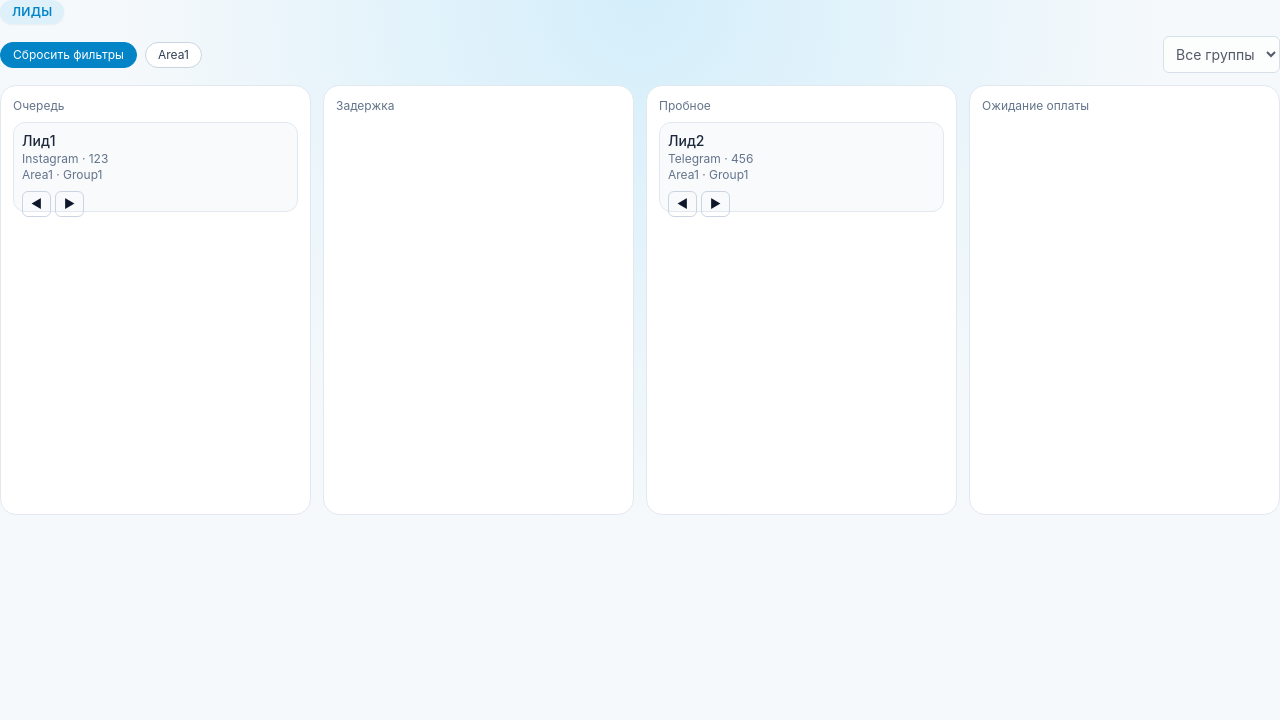
Scenario: delete: removes lead from list
Click the button "Лид2 Telegram · 456 Area1 · Group1 ◀ ▶": [686, 140] box [659,122,944,212]
(page scrolled)
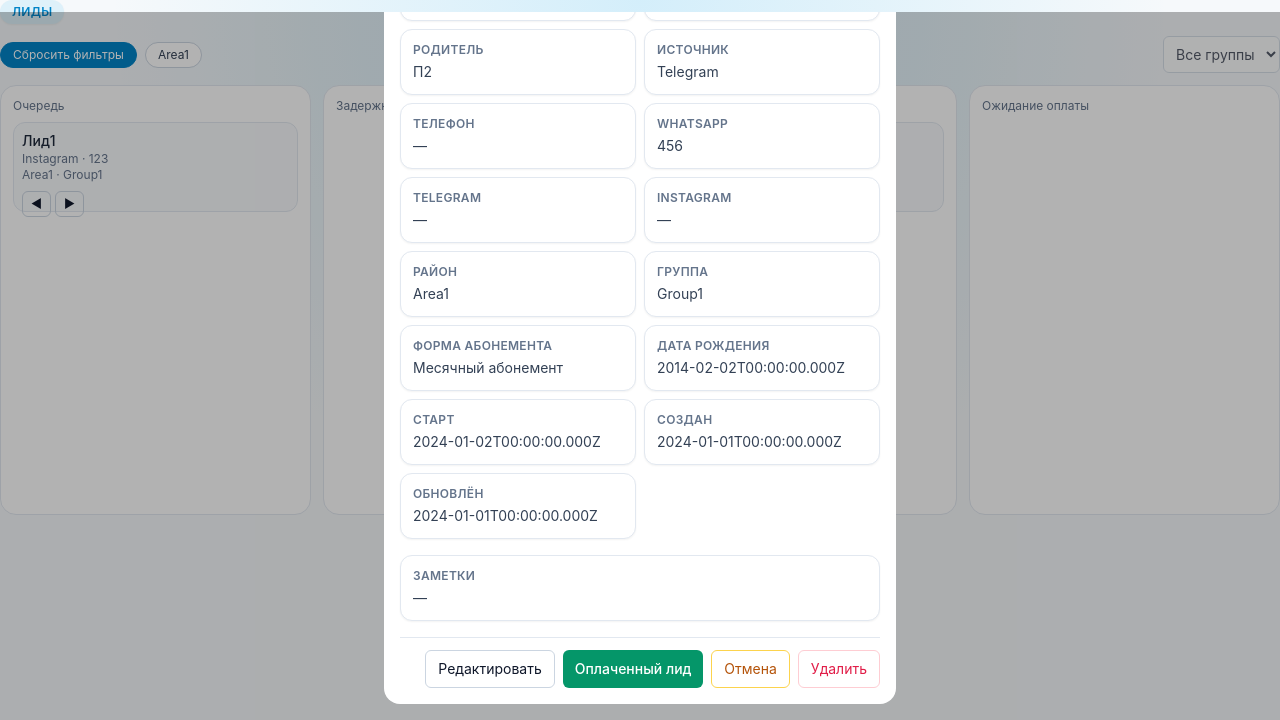
Click the button "Удалить": [839, 669] box [798,650,880,688]
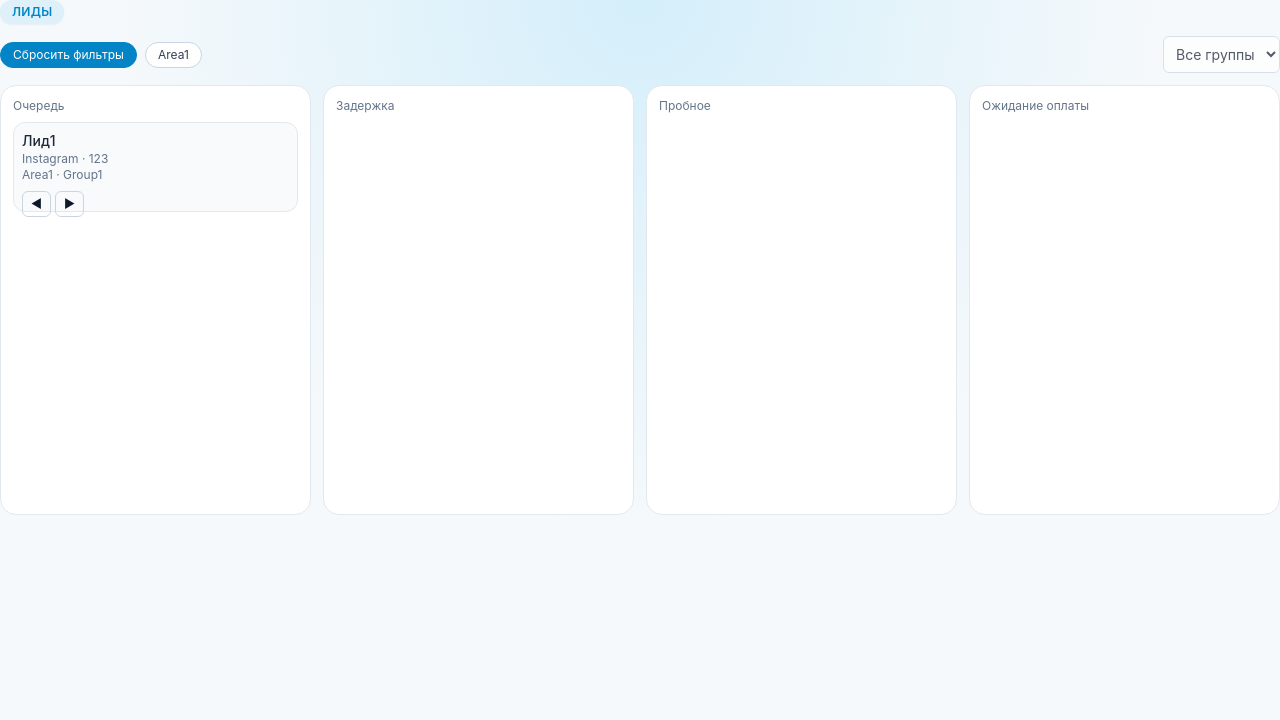
expect the button "Лид2" is gone: met
